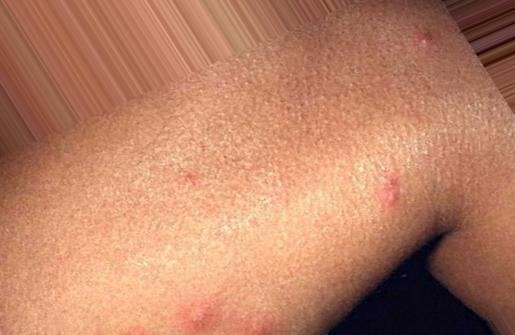Fleas: (179, 304, 220, 335), (377, 167, 403, 214), (413, 28, 442, 51), (181, 173, 197, 185)
